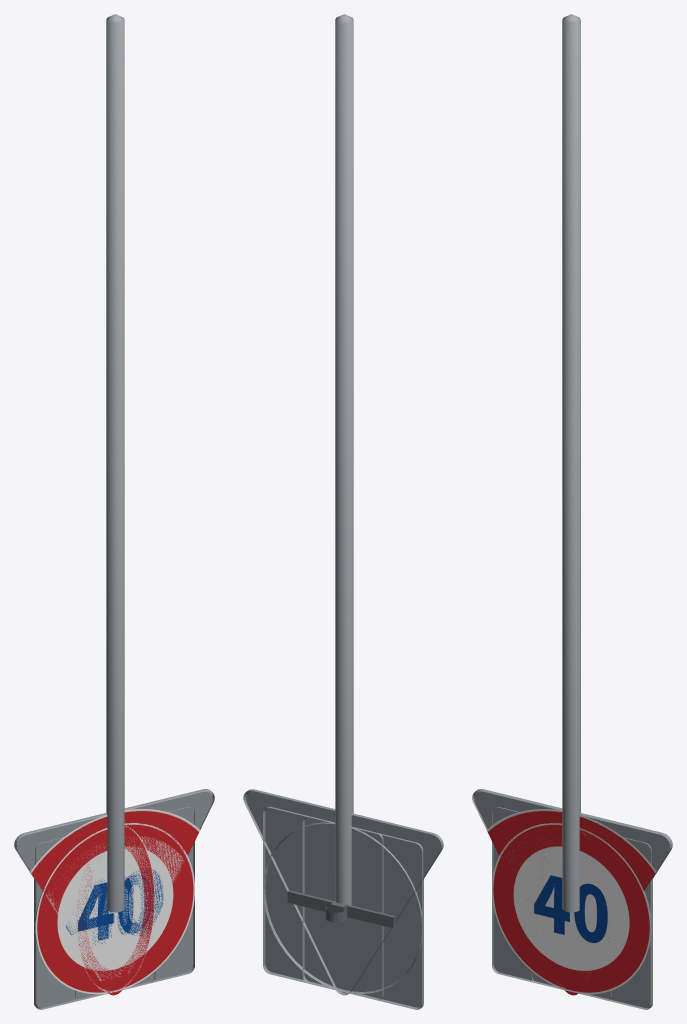
The model's file is signs.glb.
3 views of the same model, side by side, from view 1: azimuth 30°, elevation 25°; view 2: azimuth 150°, elevation 25°; view 3: azimuth 330°, elevation 25° (orthographic).
Parts seen in each view (by area): view 1: PlateCircle, Post, PlateSquare, PlateTriangle, PlateRect; view 2: PlateCircle, Post, PlateSquare, PlateRect, PlateTriangle, Bracket; view 3: PlateCircle, Post, PlateSquare, PlateTriangle.
Part boxes in pixels (x1,y1,x2,y2): PlateCircle: [35, 823, 194, 994]; Post: [106, 14, 124, 912]; PlateSquare: [34, 807, 194, 1009]; PlateTriangle: [14, 789, 214, 995]; PlateRect: [75, 825, 155, 1000]; PlateCircle: [263, 822, 421, 994]; Post: [335, 14, 353, 905]; PlateSquare: [263, 806, 423, 1009]; PlateRect: [302, 816, 383, 1000]; PlateTriangle: [243, 789, 443, 995]; Bracket: [287, 890, 395, 928]; PlateCircle: [492, 823, 651, 993]; Post: [562, 14, 580, 912]; PlateSquare: [492, 807, 652, 1009]; PlateTriangle: [472, 789, 672, 995].
Bounding box in the file's own units: 0.7477 × 3.53 × 0.1165.
Materials: 4 (1 with a texture image).
